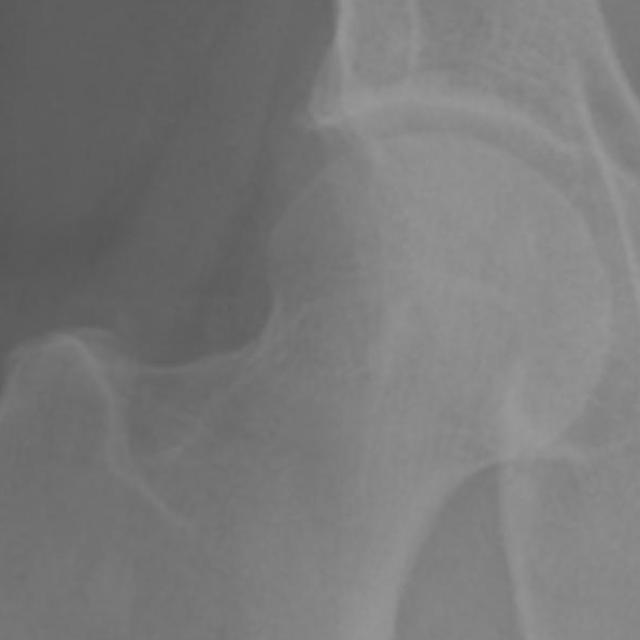Fitted_femural_head: (355, 137, 432, 355)
